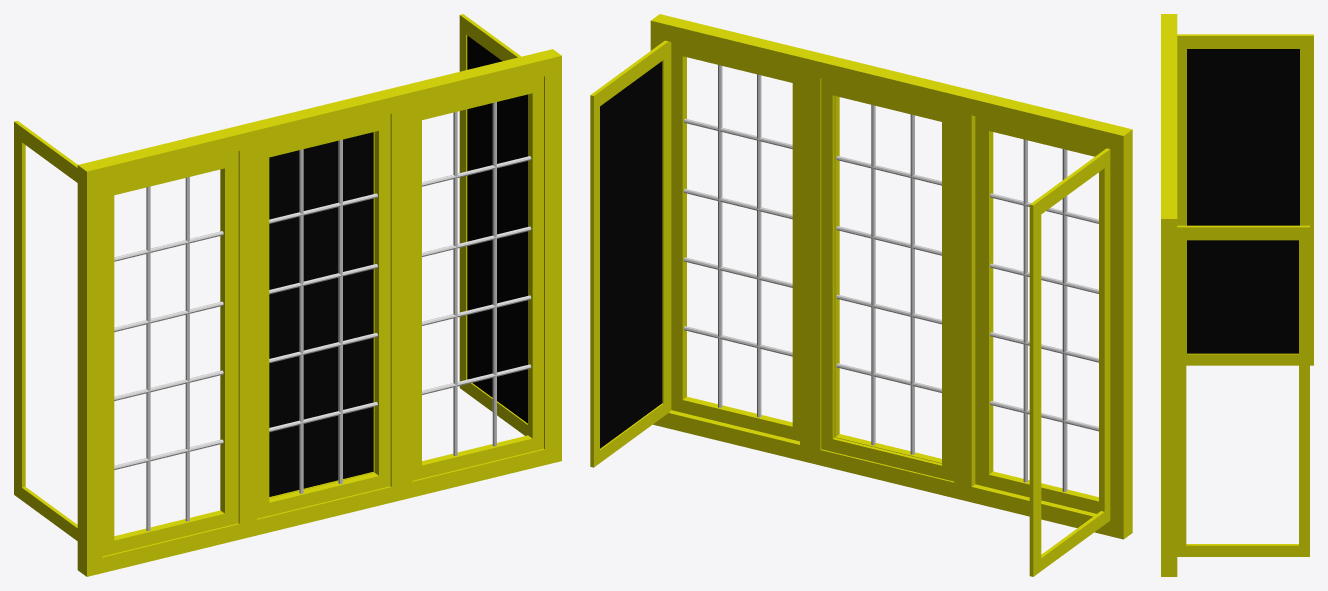
File: window.gltf
3 views of the same model, side by side, from view 1: azimuth 30°, elevation 25°; view 2: azimuth 150°, elevation 25°; view 3: azimuth 270°, elevation 25° (orthographic). The views are drawn at different scales.
Parts seen in each view (by area): view 1: outer, inner, glass3, glass2, iron, polySurface6, polySurface9, polySurface8; view 2: outer, inner, glass2, iron, polySurface8, polySurface6, polySurface9; view 3: glass1, polySurface9, outer, polySurface6.
Part boxes in pixels (<box>): outer: <box>77,49,561,576</box>; inner: <box>102,76,543,556</box>; glass3: <box>269,132,373,496</box>; glass2: <box>467,35,527,423</box>; iron: <box>114,102,531,530</box>; polySurface6: <box>14,120,77,540</box>; polySurface9: <box>459,14,527,435</box>; polySurface8: <box>269,132,374,498</box>; outer: <box>650,14,1132,539</box>; inner: <box>671,42,1106,513</box>; glass2: <box>600,61,662,448</box>; iron: <box>683,65,1098,491</box>; polySurface8: <box>821,78,954,481</box>; polySurface6: <box>1029,148,1110,576</box>; polySurface9: <box>590,40,670,467</box>; glass1: <box>1187,49,1299,353</box>; polySurface9: <box>1177,225,1309,556</box>; outer: <box>1161,14,1177,576</box>; polySurface6: <box>1177,34,1313,365</box>.
Bounding box in the file's own units: 0.4356 × 0.3551 × 0.1372.
3 materials, 1 textured.
